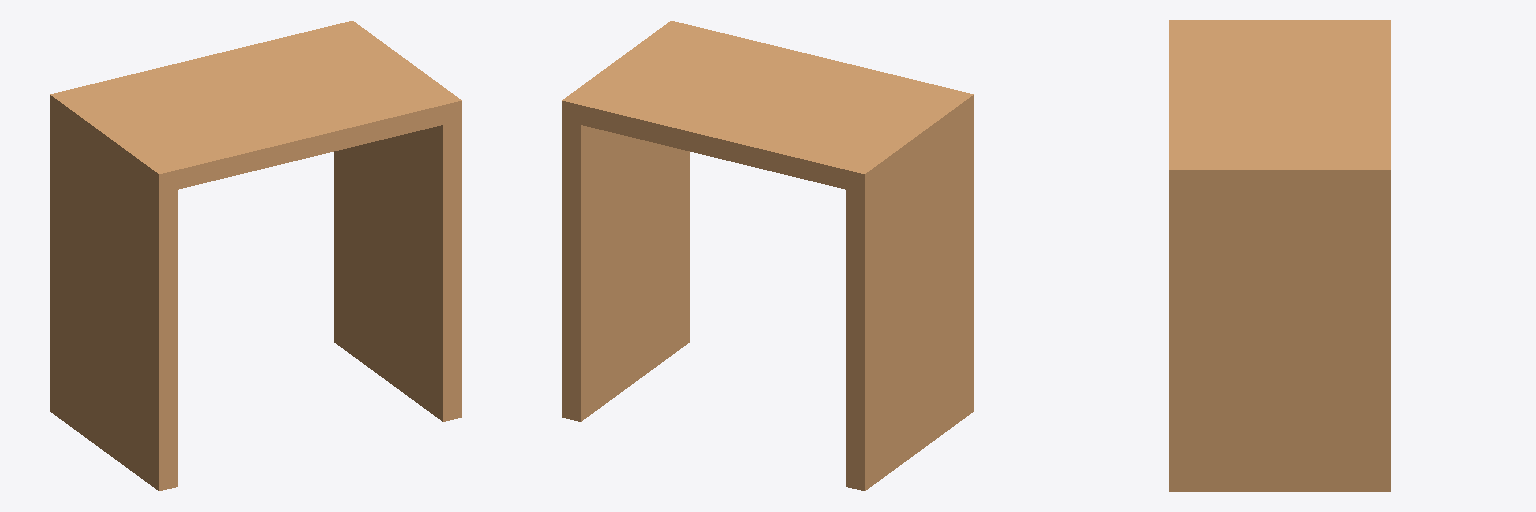
URDF robot description (robot_table):
<?xml version="1.0"?>
<robot name="robot_table">
    <link name="robot_table_origin">
        <visual>
            <geometry>
                <mesh filename="package://ur5_planning/resources/table_1.stl"
                      scale="0.1 0.1 0.1"/>
            </geometry>
            <material name="ABS" >
                <color rgba="0.9 0.7 0.5 1.0" />
            </material>
        </visual>
        <inertial>
            <origin xyz="0 0 0" rpy="0 0 0"/>
            <mass value="1"/>
            <inertia
                    ixx="1.0" ixy="0.0" ixz="0.0"
                    iyy="1.0" iyz="0.0"
                    izz="1.0"/>
        </inertial>

    </link>
    <link name="world"/>

    <joint name="fixed" type="fixed">
        <parent link="world"/>
        <child link="robot_table_origin"/>
    </joint>

</robot>

--- What the picture shows (computed from the rendered views, not written in the file) ---
Views: 3 orthographic renders of the robot side by side, from view 1: azimuth 30°, elevation 25°; view 2: azimuth 150°, elevation 25°; view 3: azimuth 270°, elevation 25°.
Robot: robot_table — 2 links, 1 joints (1 fixed); root link world; default pose: every joint at zero.
Links seen in each view (by area): view 1: robot_table_origin; view 2: robot_table_origin; view 3: robot_table_origin.
Link boxes in pixels (x1,y1,x2,y2): robot_table_origin: (50, 21, 461, 490); robot_table_origin: (562, 21, 973, 490); robot_table_origin: (1169, 20, 1390, 491).
Size in the robot's own frame: 0.8 by 0.5 by 0.8 metres.
Meshes: 1 distinct files referenced, 1 mesh visuals loaded (1 binary STL).